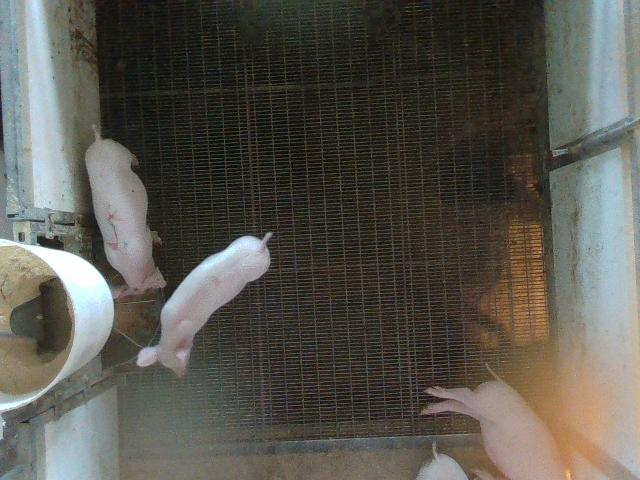pig-5: (85, 128, 165, 298)
